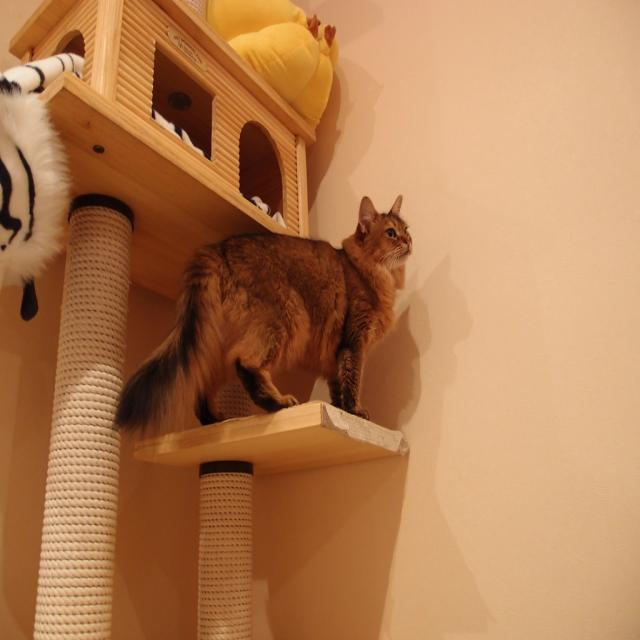Cat: (109, 191, 412, 445)
